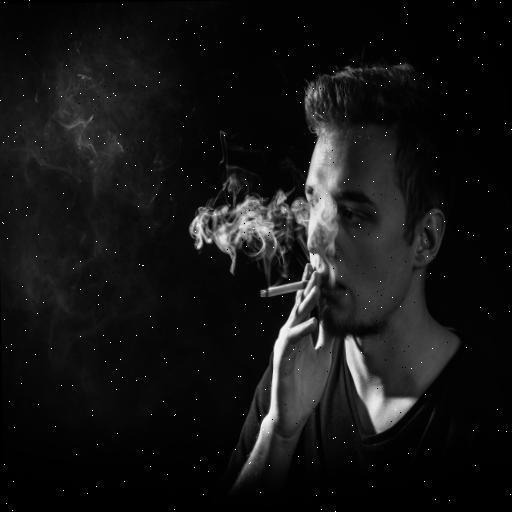merokok: (245, 114, 374, 337)
